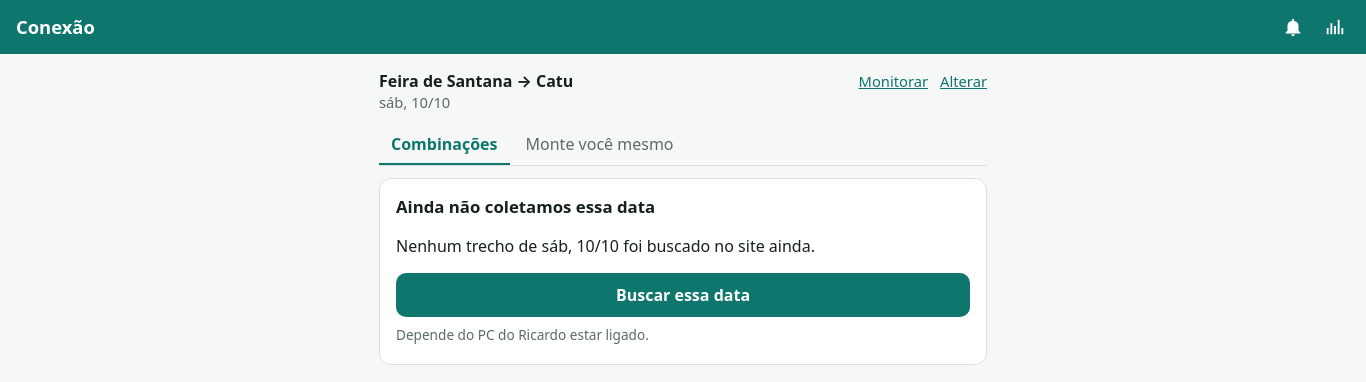
Test: Resultados › estado vazio (a): ainda não coletamos essa data › botão "Buscar essa data" cria o pedido e mostra a fila
Expected: the heading "Ainda não coletamos essa data" is shown, [396,195,655,218]
Expected: the text "Depende do PC do Ricardo estar ligado." is shown, [396,325,649,344]
Click the button "Buscar essa data" at (683, 295), box [396,273,970,317]
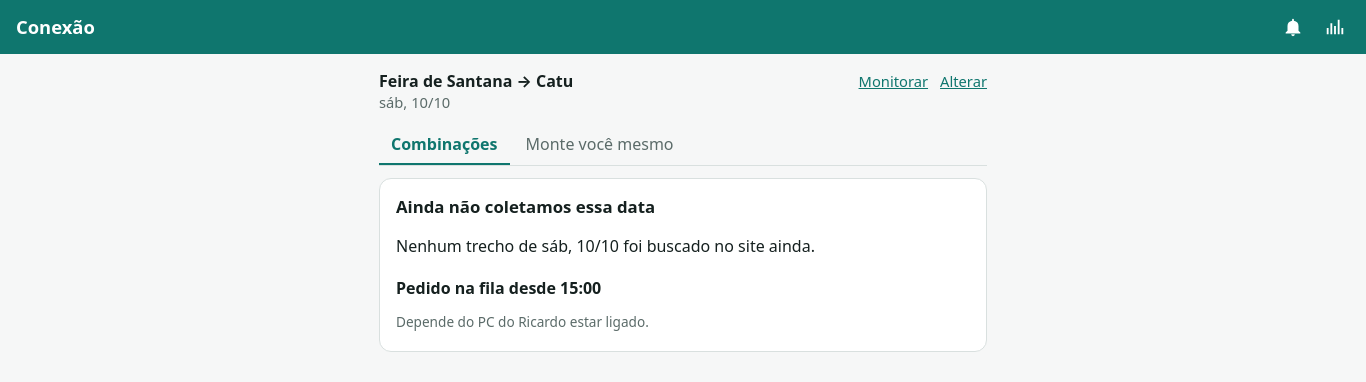
Now the text "Pedido na fila desde 15:00" is shown, box [396,277,601,299]
Now the button "Buscar essa data" is gone
